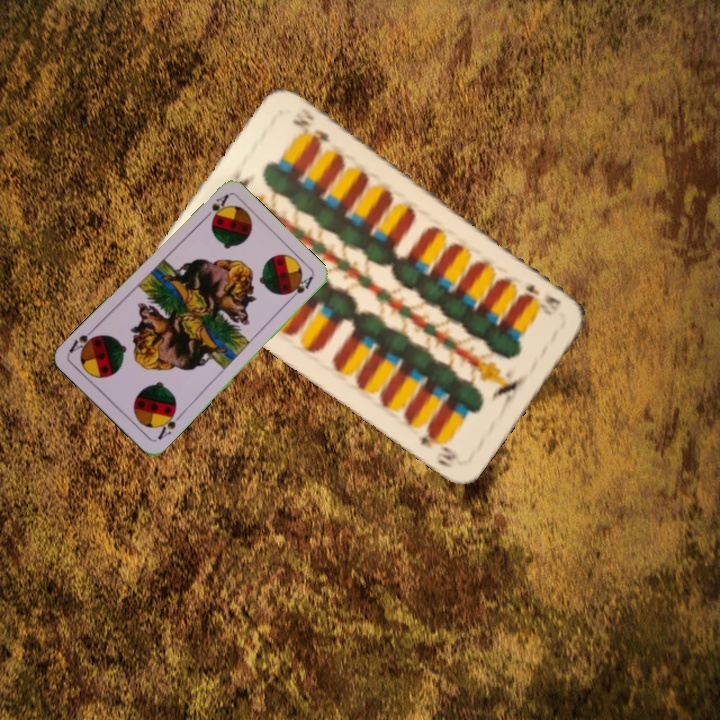E10: (520, 280, 564, 316)
SA: (153, 406, 185, 442), (199, 190, 231, 223)
